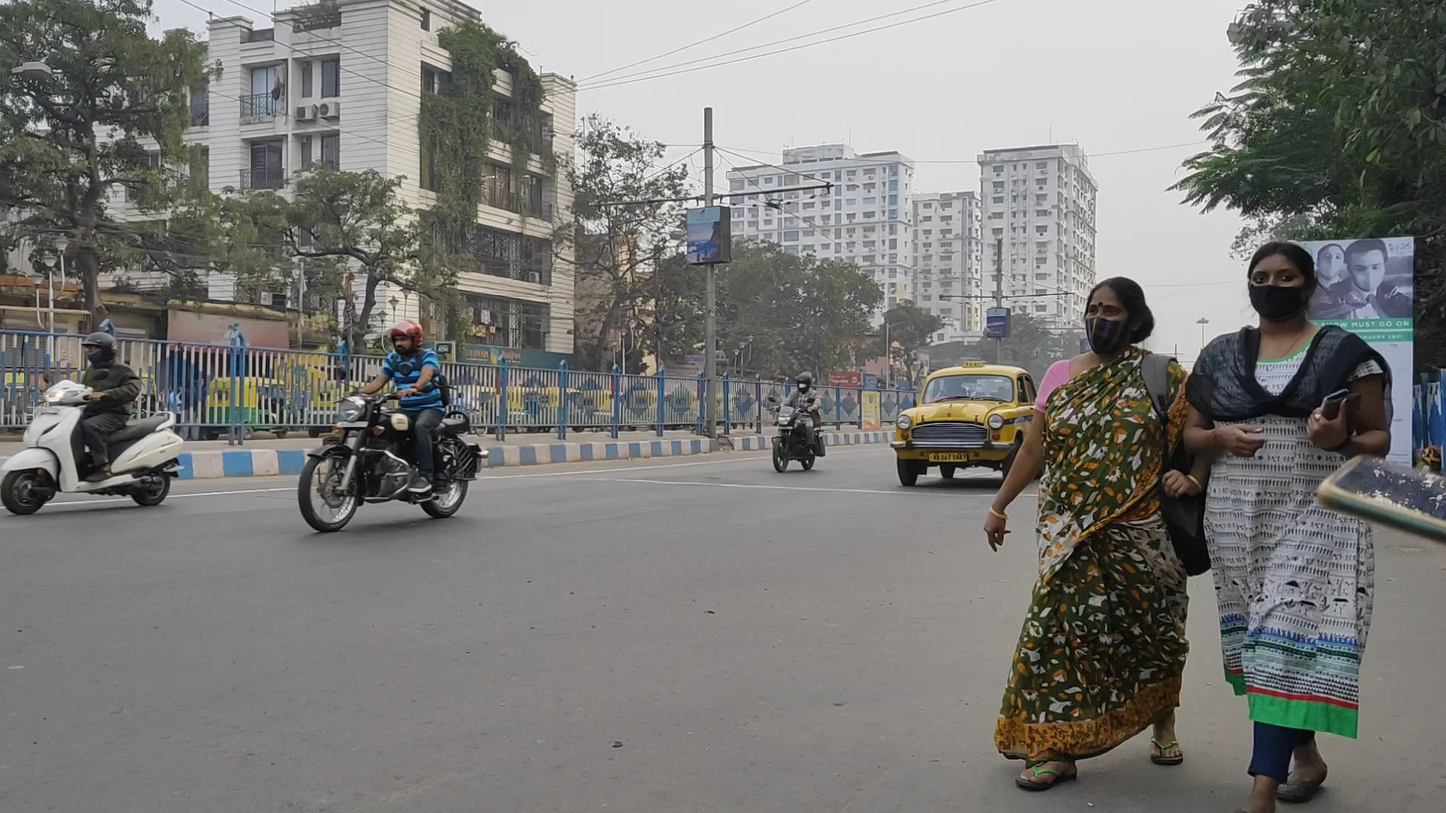bike: (297, 318, 489, 534), (1, 331, 186, 515), (768, 373, 826, 473)
car: (888, 361, 1043, 490)
